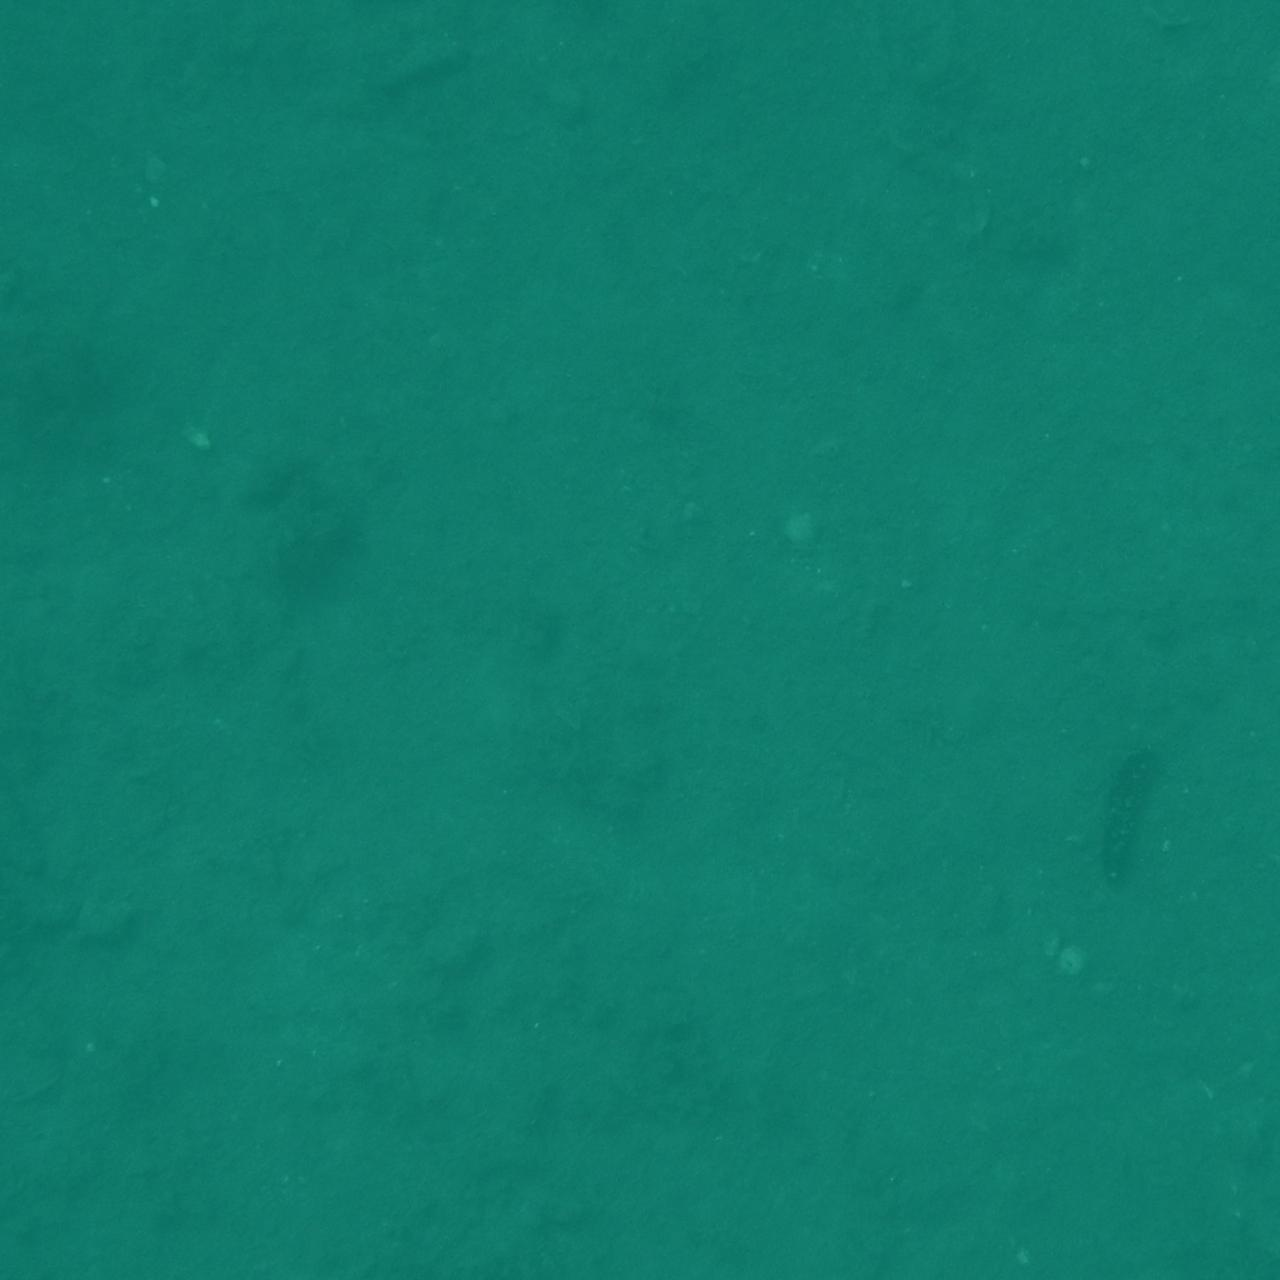Holothuria tubulosa: (431, 0, 681, 110), (1169, 452, 1280, 690), (327, 1165, 530, 1280), (1098, 196, 1280, 318), (463, 1189, 694, 1280), (0, 245, 113, 424), (0, 0, 77, 257), (1081, 707, 1165, 913), (0, 663, 77, 880), (270, 1208, 492, 1280), (0, 1160, 129, 1280), (915, 1170, 1047, 1280), (1148, 11, 1280, 120), (0, 1183, 142, 1280), (0, 465, 102, 600), (930, 0, 1109, 75), (0, 0, 144, 82), (0, 0, 116, 97), (1117, 1224, 1280, 1280), (1198, 0, 1280, 111), (1182, 1189, 1280, 1280), (393, 0, 463, 124), (381, 36, 484, 120), (1167, 715, 1280, 784), (1219, 1153, 1280, 1280), (0, 0, 125, 60), (0, 1167, 35, 1280)
Rifiuto: (0, 1139, 137, 1280)
